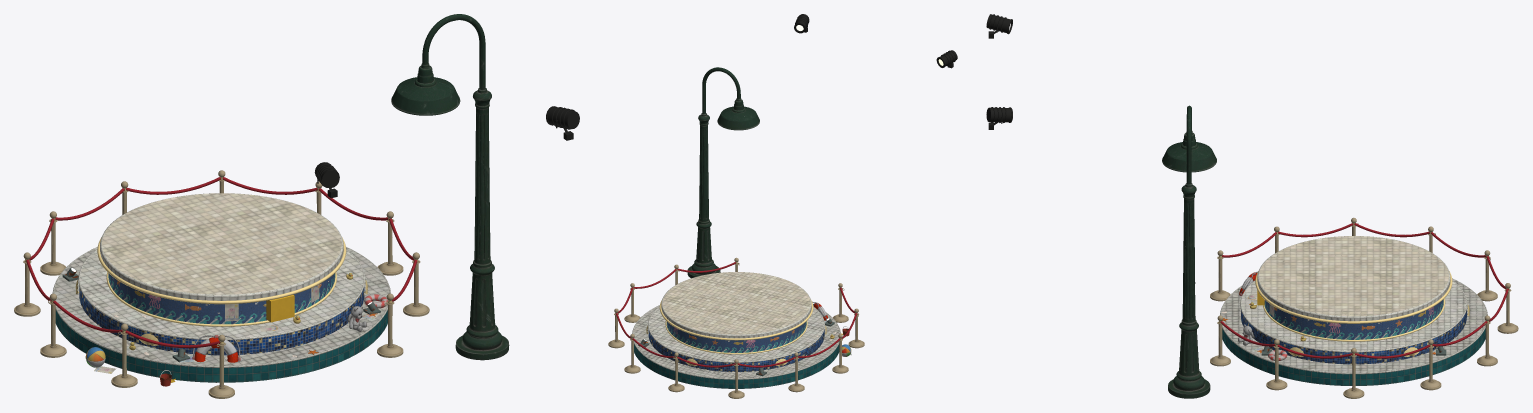
File: sala_monumento.glb
The picture shows the model from 3 angles, left to right: view 1: azimuth 30°, elevation 25°; view 2: azimuth 150°, elevation 25°; view 3: azimuth 270°, elevation 25°; orthographic projection. The views are drawn at different scales.
Parts seen in each view (by area): view 1: amb_piedistallo, amb_lampione, sala_monumento_cordone, sala_monumento_fari, sala_monumento_offerte, ogg_salvagente_nave_36, sala_monumento_colonnina_0, sala_monumento_colonnina_9, sala_monumento_colonnina_10, sala_monumento_colonnina_8, sala_monumento_colonnina_1, sala_monumento_colonnina_7 (+2 smaller); view 2: amb_piedistallo, amb_lampione, sala_monumento_cordone, sala_monumento_fari; view 3: amb_piedistallo, amb_lampione, sala_monumento_cordone, sala_monumento_fari.
Boxes of the visible parts, bbox=[...] form: amb_piedistallo: bbox=[52, 193, 390, 382]; amb_lampione: bbox=[391, 14, 509, 360]; sala_monumento_cordone: bbox=[25, 177, 418, 348]; sala_monumento_fari: bbox=[314, 106, 579, 198]; sala_monumento_offerte: bbox=[94, 284, 380, 386]; ogg_salvagente_nave_36: bbox=[192, 335, 240, 382]; sala_monumento_colonnina_0: bbox=[377, 293, 403, 357]; sala_monumento_colonnina_9: bbox=[111, 323, 137, 387]; sala_monumento_colonnina_10: bbox=[208, 334, 234, 398]; sala_monumento_colonnina_8: bbox=[40, 293, 66, 357]; sala_monumento_colonnina_1: bbox=[403, 252, 429, 316]; sala_monumento_colonnina_7: bbox=[14, 252, 40, 316]; amb_piedistallo: bbox=[632, 272, 840, 388]; amb_lampione: bbox=[687, 67, 759, 278]; sala_monumento_cordone: bbox=[615, 262, 857, 367]; sala_monumento_fari: bbox=[794, 14, 957, 68]; amb_piedistallo: bbox=[1220, 236, 1487, 385]; amb_lampione: bbox=[1162, 105, 1216, 398]; sala_monumento_cordone: bbox=[1219, 223, 1509, 358]; sala_monumento_fari: bbox=[986, 14, 1012, 129].
Size of what is drawn, in the model's own units: 6.41 by 5.87 by 10.36.
Materials: 23 (19 with a texture image).
